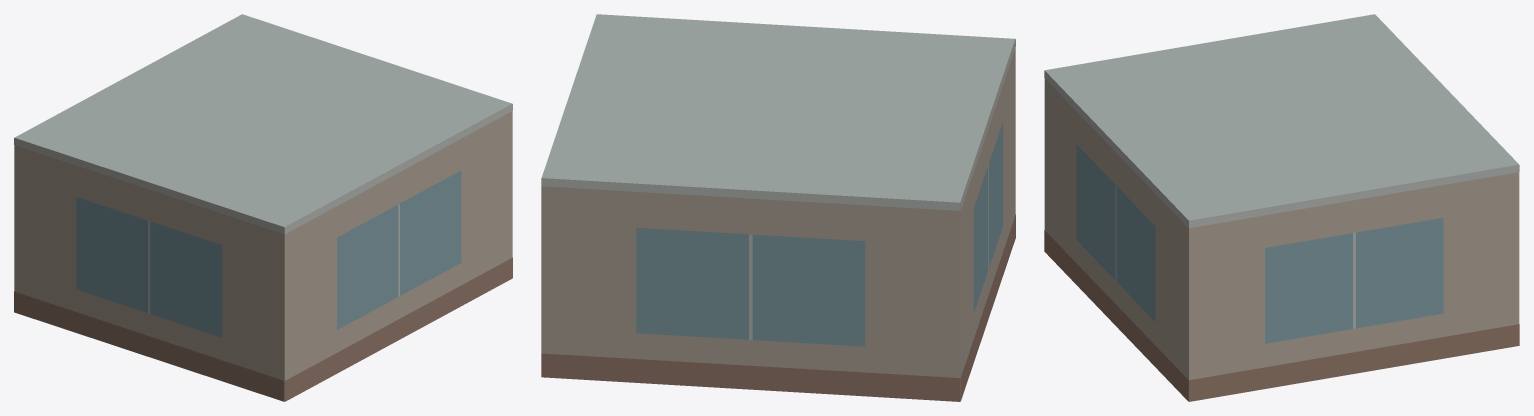
File: survey-upis-32687729.glb
3 renders of one model, left to right at view 1: azimuth 30°, elevation 25°; view 2: azimuth 150°, elevation 25°; view 3: azimuth 270°, elevation 25°, orthographic. The views are drawn at different scales.
Parts seen in each view (by area): view 1: survey-upis-32687729.tmp; view 2: survey-upis-32687729.tmp; view 3: survey-upis-32687729.tmp.
Boxes of the visible parts, bbox=[...] form: survey-upis-32687729.tmp: bbox=[14, 14, 512, 401]; survey-upis-32687729.tmp: bbox=[541, 14, 1015, 401]; survey-upis-32687729.tmp: bbox=[1044, 14, 1519, 401].
Size of the model in its own units: 7.48 by 3.05 by 7.27.
